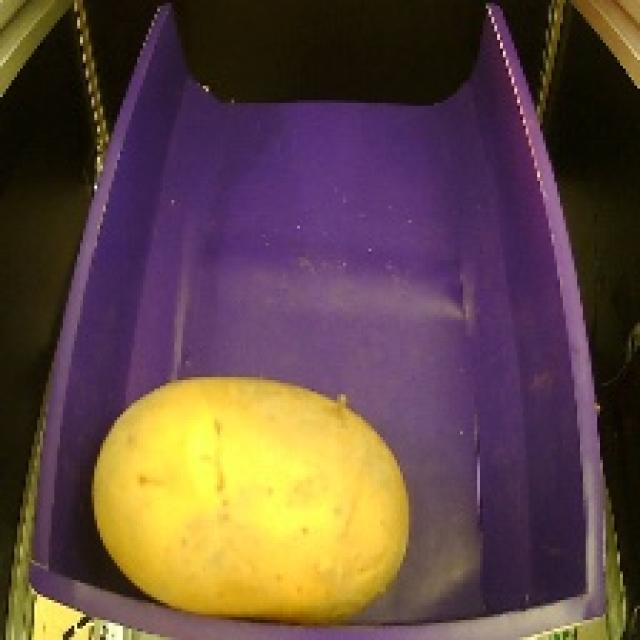full_potato: (82, 362, 415, 629)
